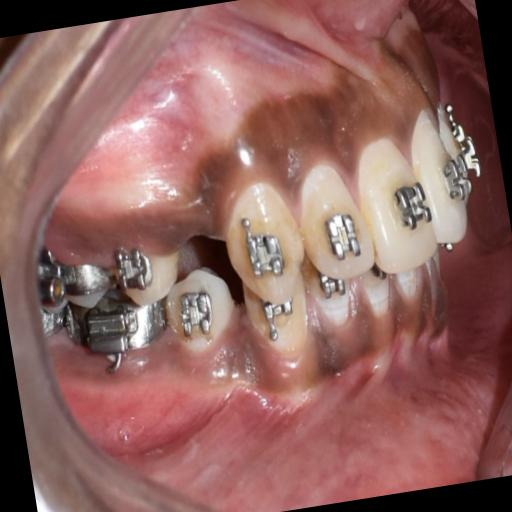correct_brace: (234, 207, 294, 295), (168, 282, 224, 352), (384, 166, 436, 240), (318, 204, 368, 268)
incorrect_brace: (285, 128, 380, 291)
